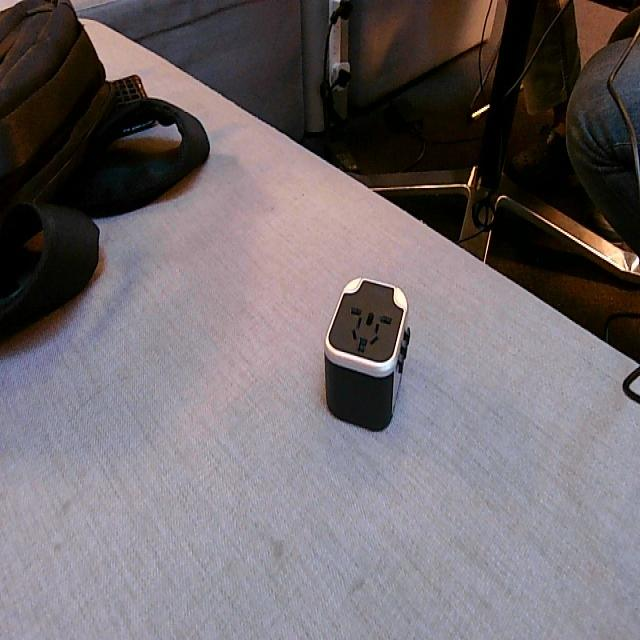adapter: (322, 274, 411, 430)
